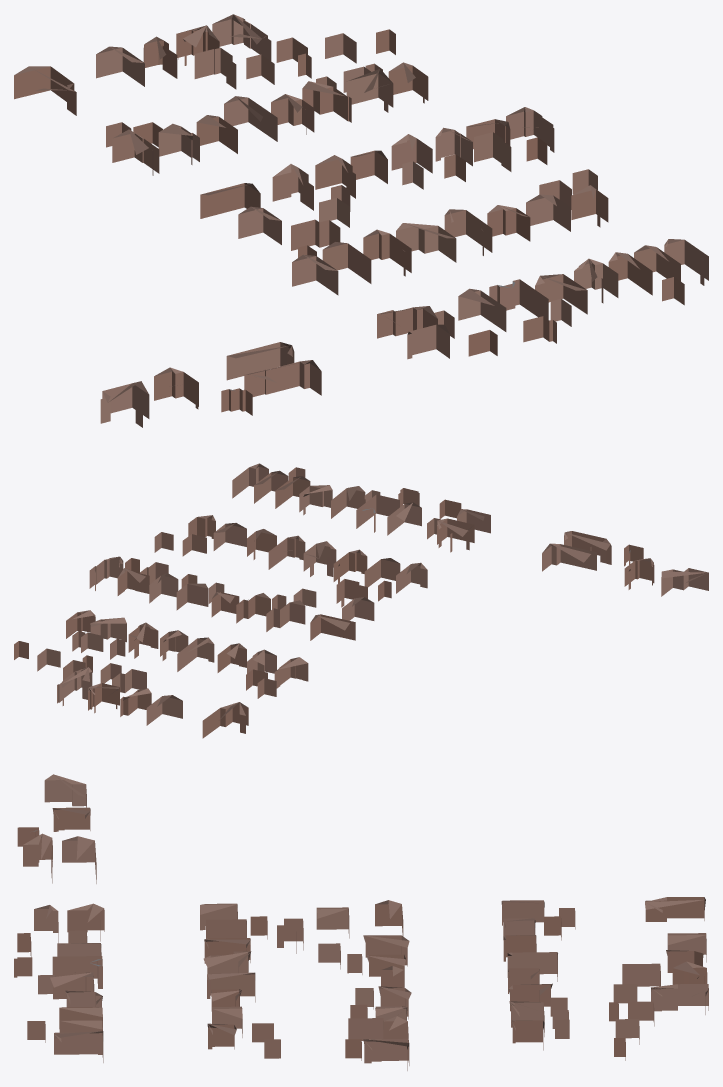
Rendered from c_1644_17825_buildings_residential.glb.
3 renders of one model, top to bottom at view 1: azimuth 30°, elevation 25°; view 2: azimuth 150°, elevation 25°; view 3: azimuth 270°, elevation 25°, orthographic. The views are drawn at different scales.
Visible parts, largest first — view 1: geometry_0; view 2: geometry_0; view 3: geometry_0.
Part boxes in pixels (box(x1,y1,x2,y2)): geometry_0: box(14, 14, 708, 427); geometry_0: box(14, 463, 708, 738); geometry_0: box(14, 774, 708, 1070).
Size of the model in its own units: 245 by 10.94 by 264.
